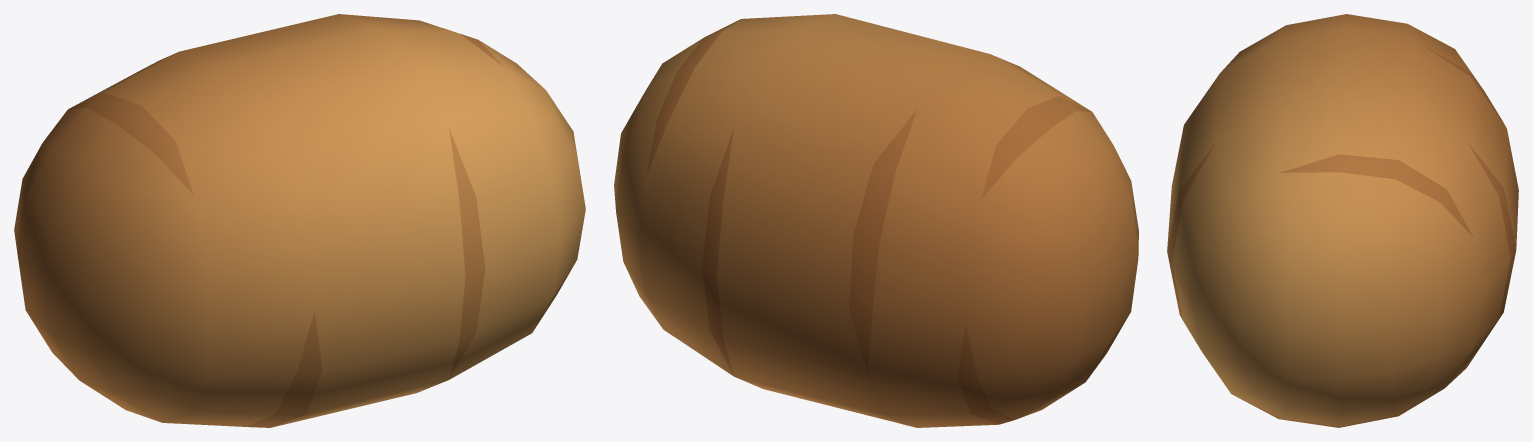
File: Potato_02.glb
The picture shows the model from 3 angles, left to right: view 1: azimuth 30°, elevation 25°; view 2: azimuth 150°, elevation 25°; view 3: azimuth 270°, elevation 25°; orthographic projection. The views are drawn at different scales.
Parts seen in each view (by area): view 1: Potato_02; view 2: Potato_02; view 3: Potato_02.
Boxes of the visible parts, x1,y1,x2,y2 form: Potato_02: [14, 14, 585, 427]; Potato_02: [614, 14, 1138, 427]; Potato_02: [1167, 14, 1518, 427].
Bounding box in the file's own units: 0.2089 × 0.1392 × 0.141.
Materials: 1 (1 with a texture image).
